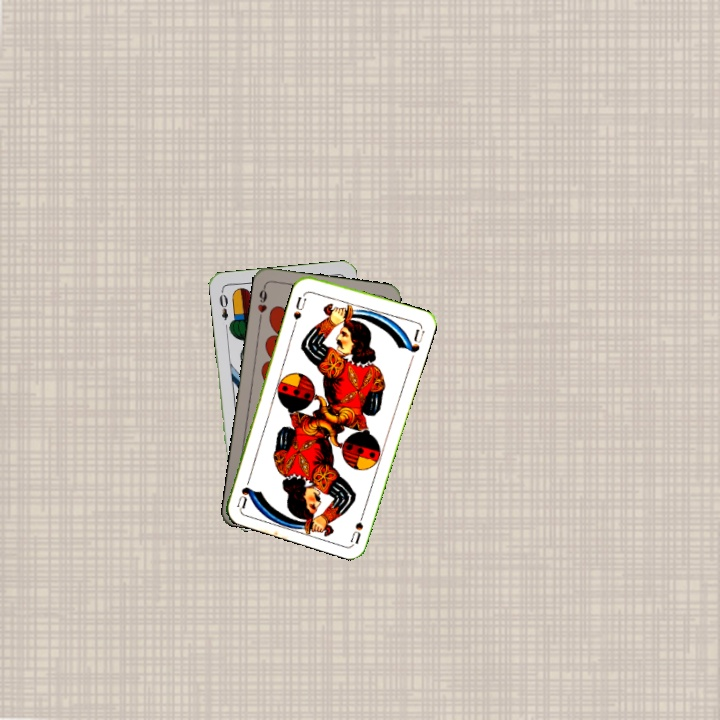EO: (215, 287, 231, 323)
H9: (253, 282, 270, 323)
SU: (347, 504, 368, 545), (289, 293, 309, 328)
